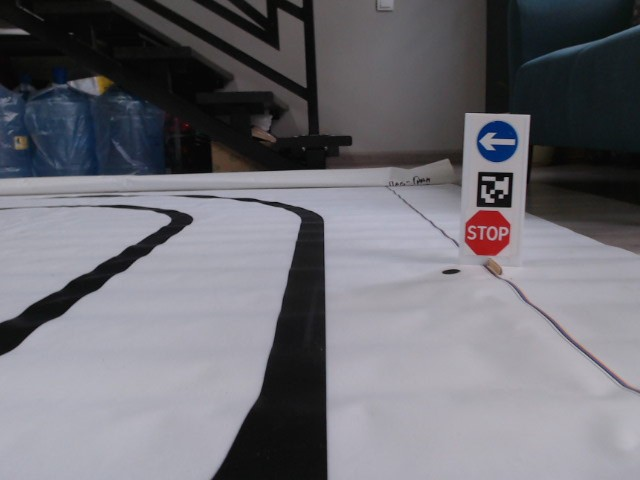Stop: (463, 209, 513, 258)
